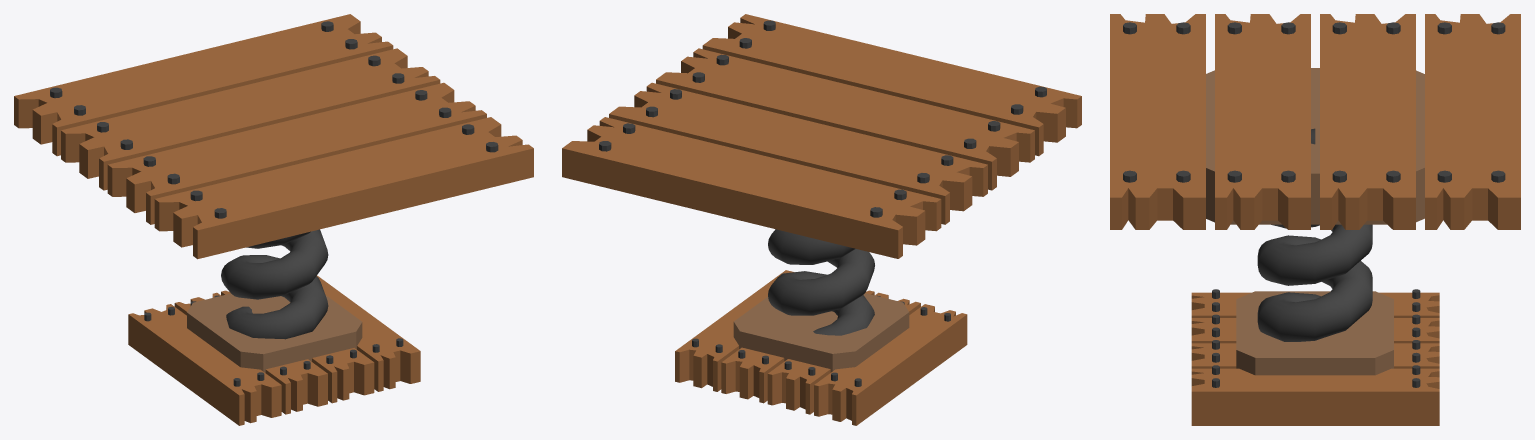
Rendered from jump.fbx.
The picture shows the model from 3 angles, left to right: view 1: azimuth 30°, elevation 25°; view 2: azimuth 150°, elevation 25°; view 3: azimuth 270°, elevation 25°; orthographic projection. The views are drawn at different scales.
Parts seen in each view (by area): view 1: Circle; view 2: Circle; view 3: Circle.
Boxes of the visible parts, <box> form: Circle: <box>14,14,533,425</box>; Circle: <box>562,14,1081,425</box>; Circle: <box>1110,14,1520,425</box>.
Bounding box in the file's own units: 0.6452 × 0.4569 × 0.6096.
